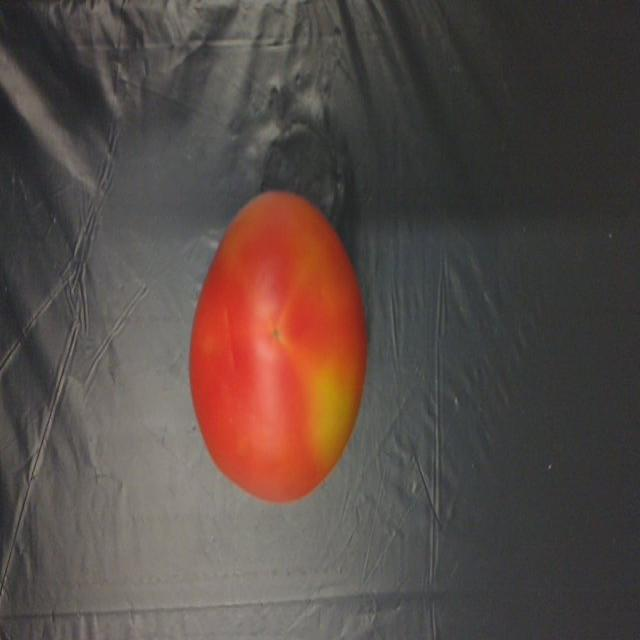sari: (193, 179, 371, 509)
